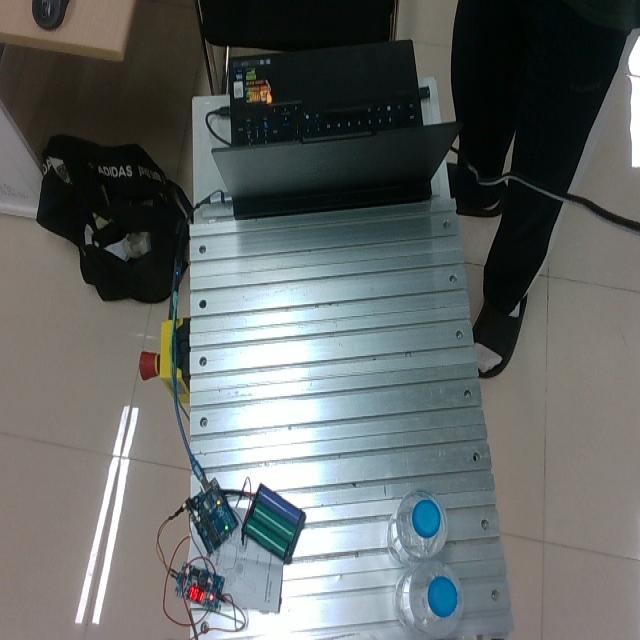lavie: (393, 557, 462, 636), (387, 488, 449, 567)
